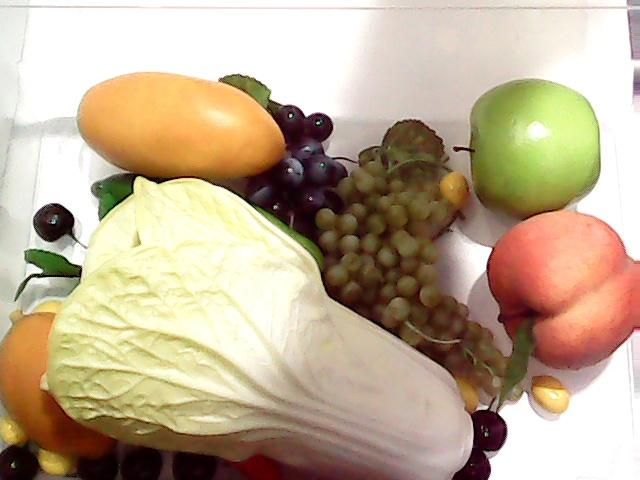apple: (452, 74, 600, 222)
carrot: (230, 450, 274, 478)
grape: (292, 158, 492, 376), (230, 99, 348, 243)
lemon: (0, 303, 124, 465)
mango: (75, 70, 289, 190)
napa cabbage: (43, 175, 464, 480)
peach: (480, 206, 640, 374)
pepper: (85, 162, 322, 298)
